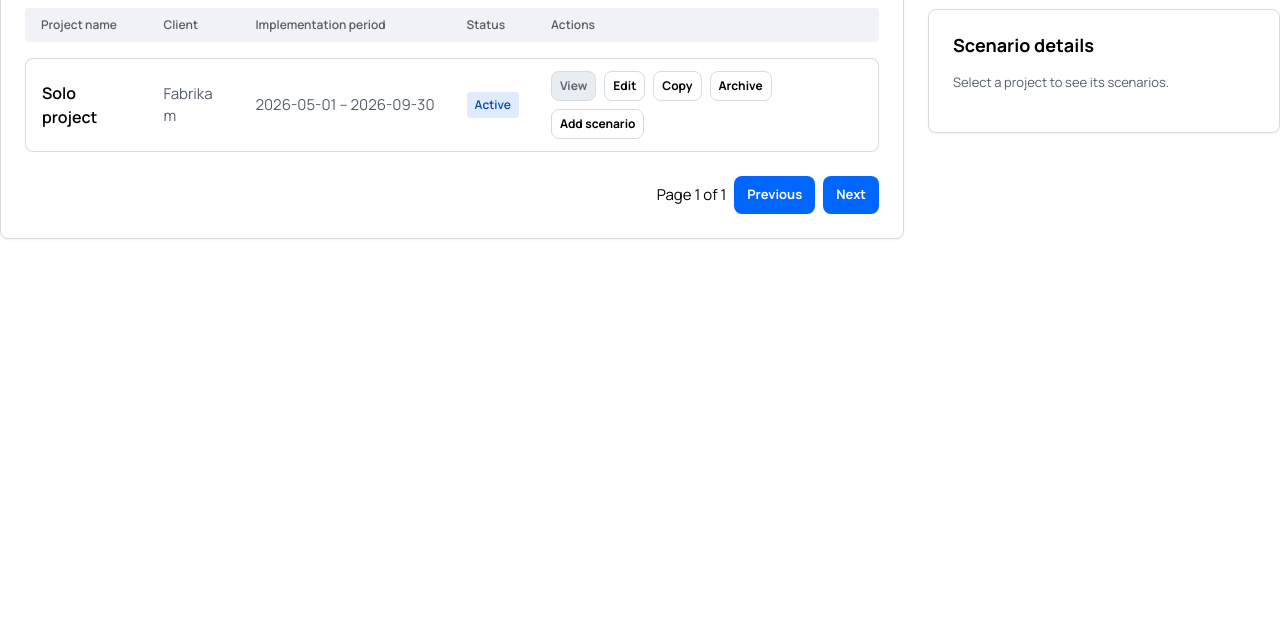
Test case: K-01 — a successful duplicate adds a new row built solely from the response, with no refetch › adds a new row matching the 201 body, without re-reading the project list
Click the button "Solo project": x=87, y=105 [42,81,131,129]
(page scrolled)
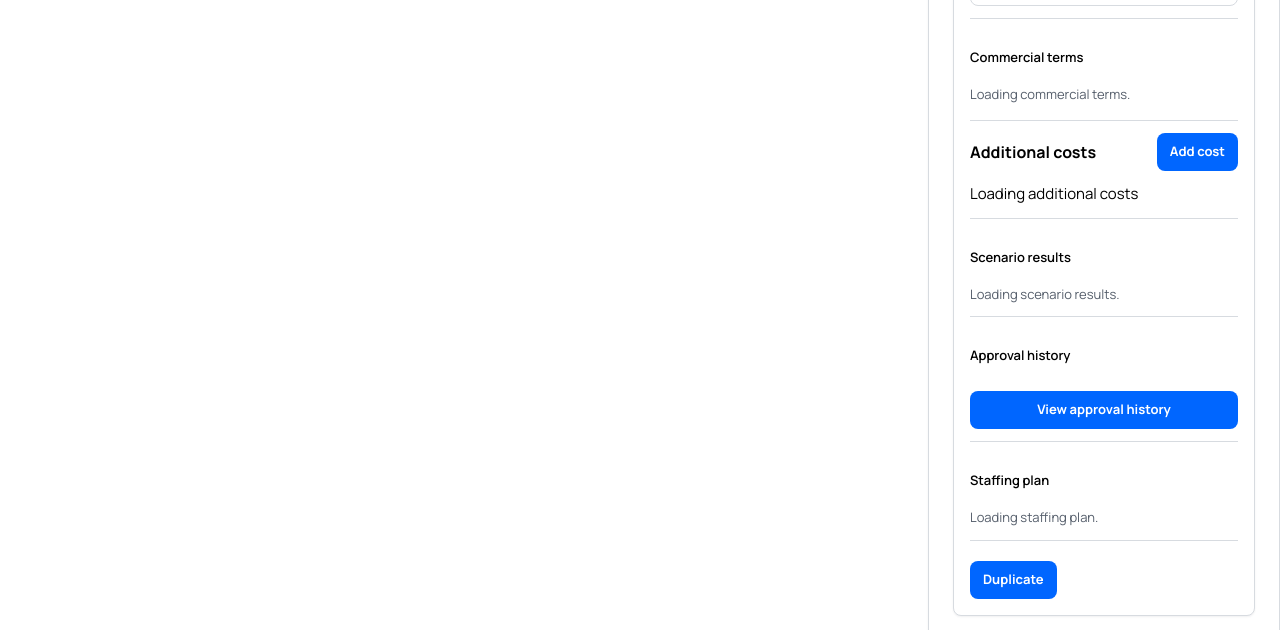
Click the button "Duplicate": x=1013, y=580 [970,561,1056,599]
(page scrolled)
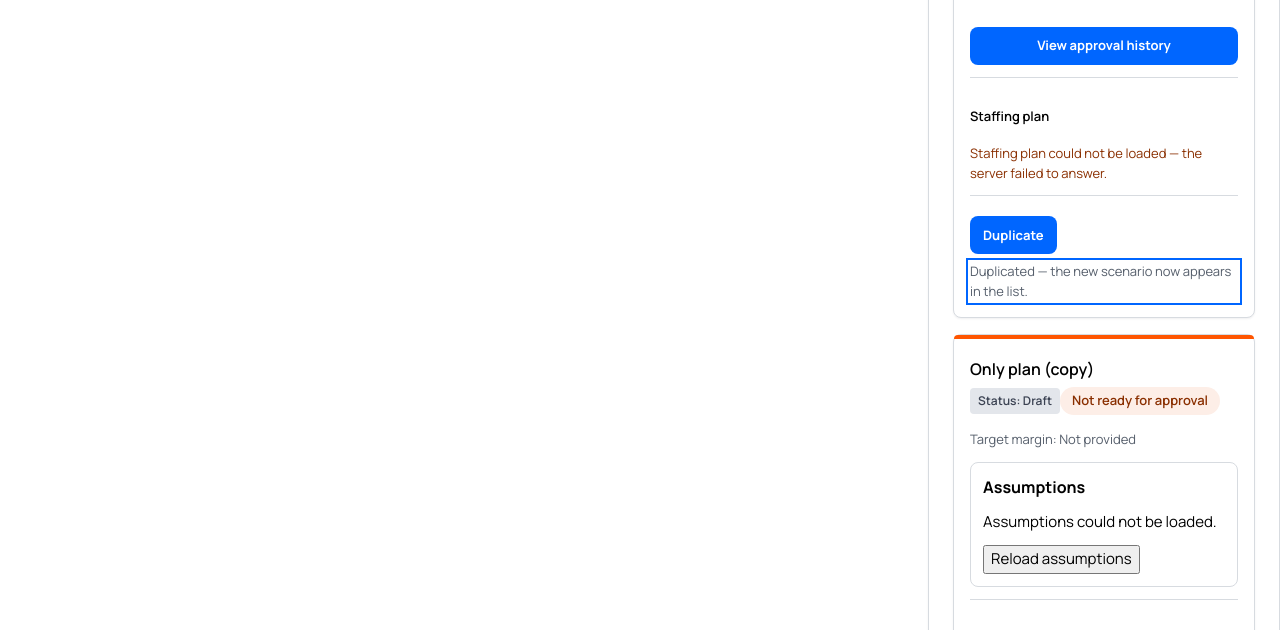
Now the heading "Only plan (copy)" is shown, box [970,358,1094,380]
Now the text "Status: Draft" is shown, box [970,388,1060,414]
